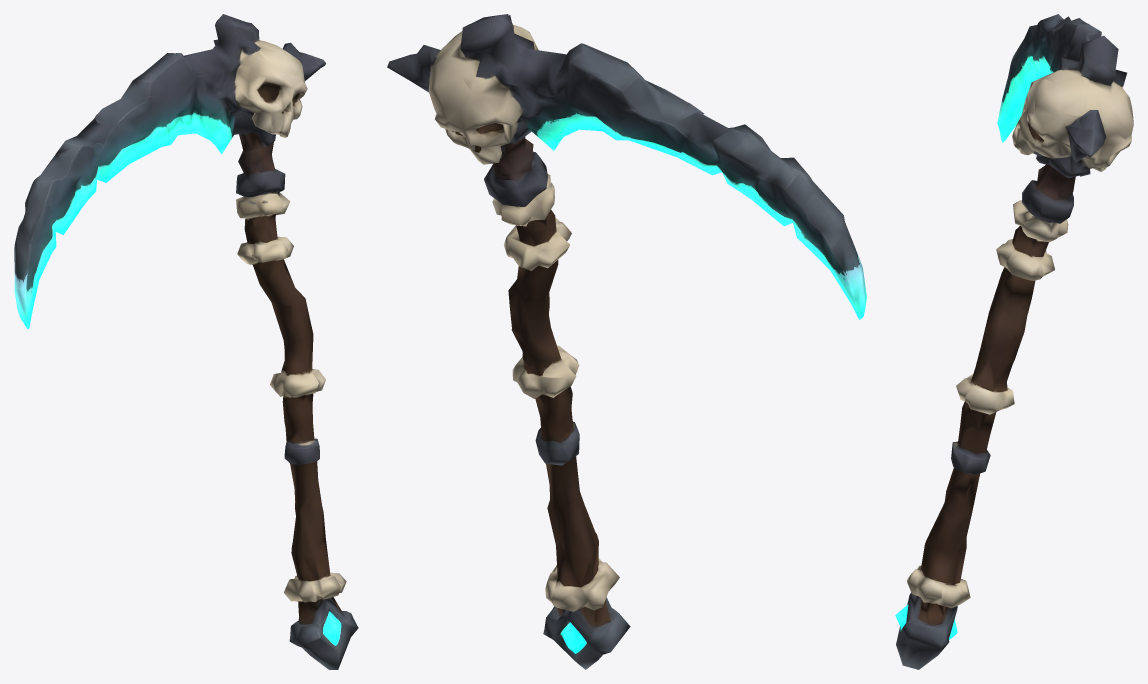
Rendered from Reaper_Scythe-CU1_wsfC.glb.
The picture shows the model from 3 angles, left to right: view 1: azimuth 30°, elevation 25°; view 2: azimuth 150°, elevation 25°; view 3: azimuth 270°, elevation 25°; orthographic projection. The views are drawn at different scales.
Visible parts, largest first — view 1: tripo_node_47e43c8c-7021-4990-8cd8-e5eef28f5313; view 2: tripo_node_47e43c8c-7021-4990-8cd8-e5eef28f5313; view 3: tripo_node_47e43c8c-7021-4990-8cd8-e5eef28f5313.
Boxes of the visible parts, x1,y1,x2,y2 form: tripo_node_47e43c8c-7021-4990-8cd8-e5eef28f5313: (14, 14, 358, 669); tripo_node_47e43c8c-7021-4990-8cd8-e5eef28f5313: (387, 14, 866, 669); tripo_node_47e43c8c-7021-4990-8cd8-e5eef28f5313: (895, 14, 1133, 669).
Size of the model in its own units: 1.58 by 2.6 by 0.8994.
1 material, 1 textured.
